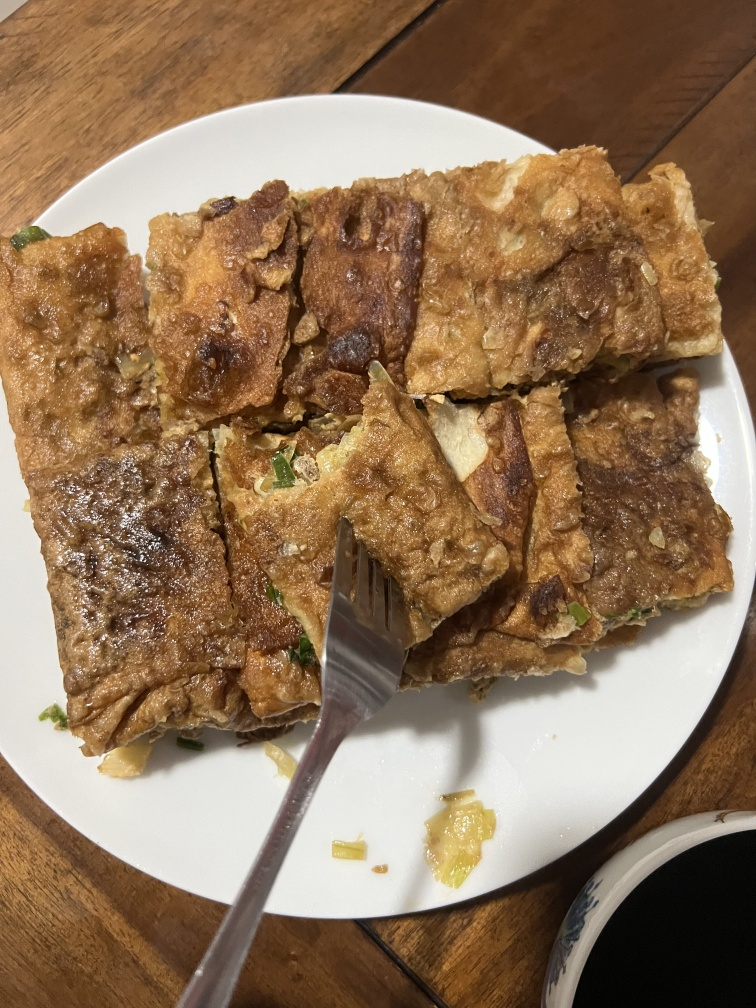martabak telor: (224, 400, 493, 669), (385, 130, 687, 367), (21, 464, 245, 738), (527, 381, 722, 639), (131, 191, 330, 422), (1, 235, 193, 451), (299, 162, 457, 422)
